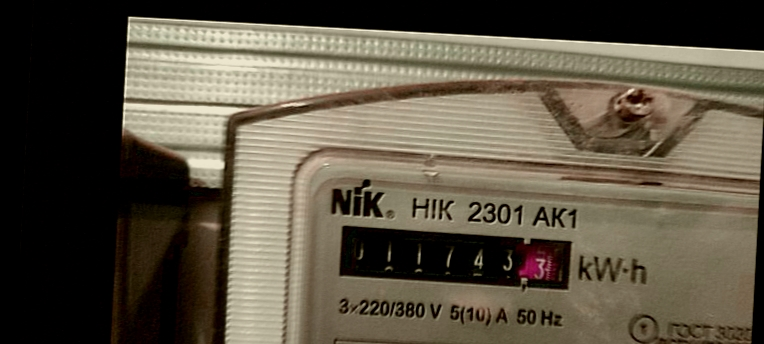0: (352, 234, 367, 262)
1: (413, 237, 426, 266), (384, 236, 395, 263)
3: (501, 245, 517, 273), (532, 256, 547, 281)
4: (471, 243, 487, 271)
7: (442, 239, 458, 267)
screen: (328, 214, 585, 301)
